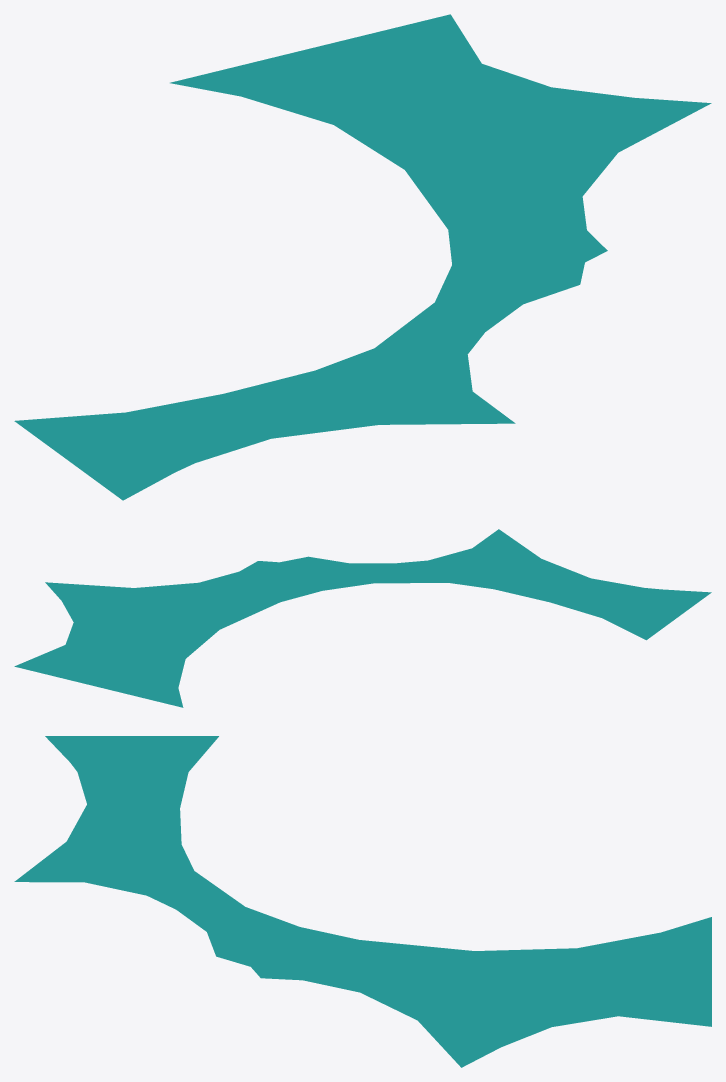
Rendered from frog_color_10.fbx.
The picture shows the model from 3 angles, top to bottom: view 1: azimuth 30°, elevation 25°; view 2: azimuth 150°, elevation 25°; view 3: azimuth 270°, elevation 25°; orthographic projection. The views are drawn at different scales.
Visible parts, largest first — view 1: frog_color_10; view 2: frog_color_10; view 3: frog_color_10.
Part boxes in pixels (x1,y1,x2,y2): frog_color_10: (14, 14, 711, 500); frog_color_10: (14, 529, 711, 707); frog_color_10: (14, 736, 711, 1067).
Size of the model in its own units: 70.53 by 0 by 62.7.
